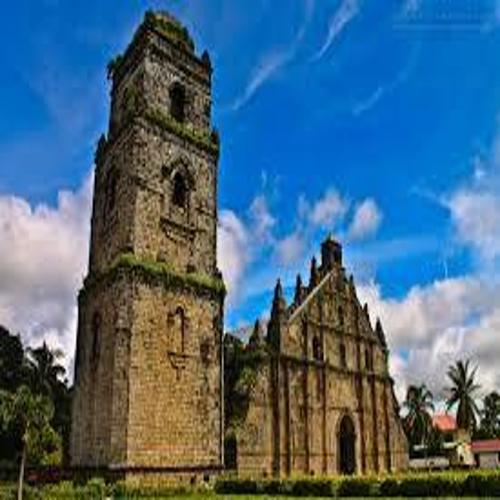Paoay Church: (55, 6, 417, 483)
